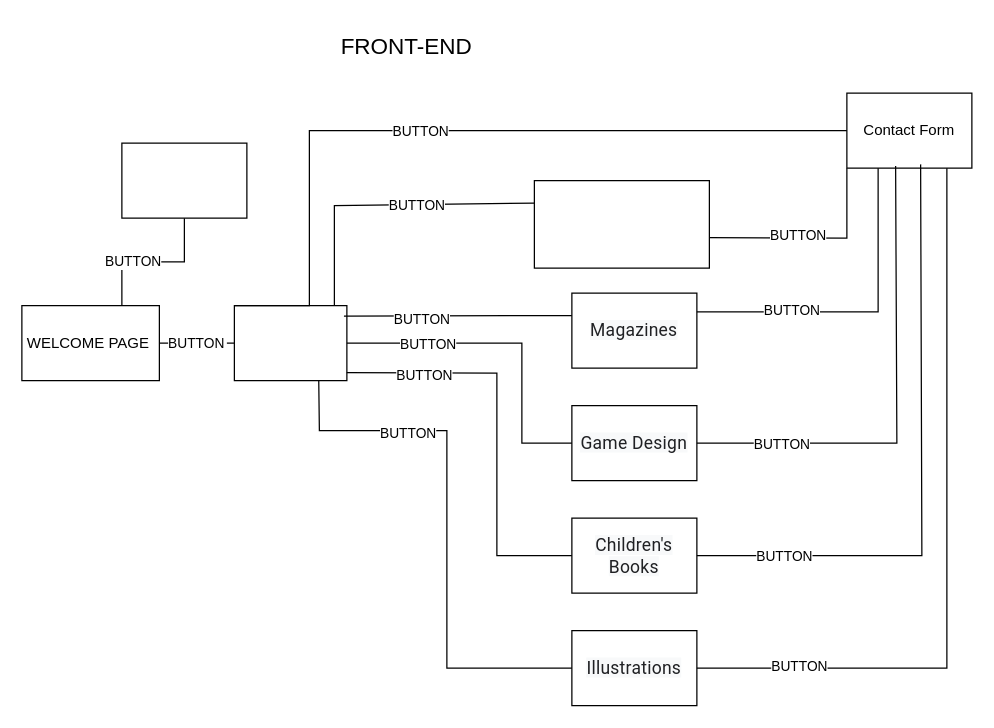
Image size: 994x728. Some labels were removed from this diagram. Each missing label, with the box of its shape:
Media links User will have access to media links: (121, 142, 247, 218)
Portfolio/ Menu Bar: (233, 304, 347, 381)
Skills Pages/Printables: (533, 179, 709, 268)
